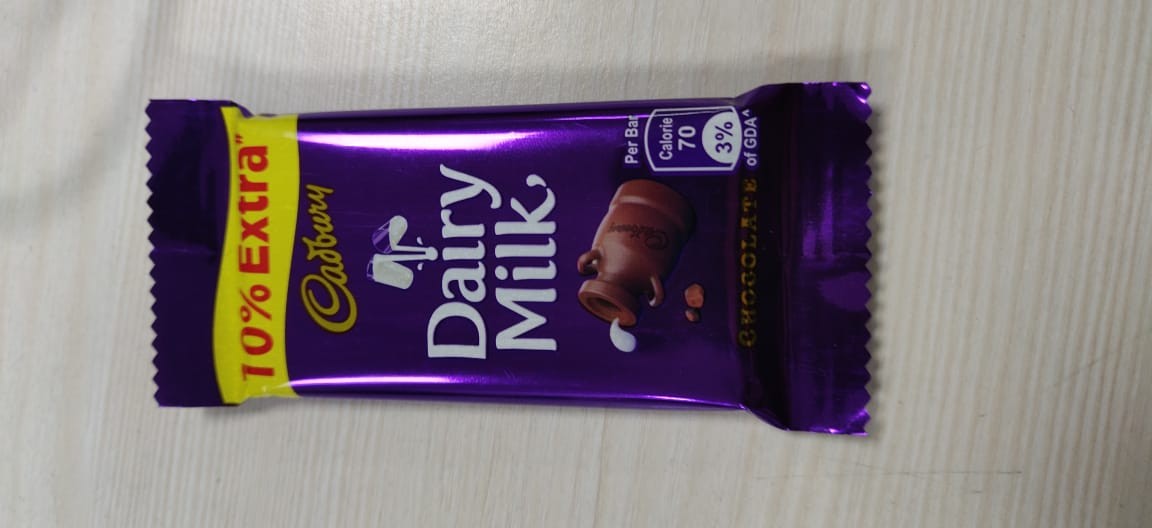dairy milk: (122, 77, 907, 446)
